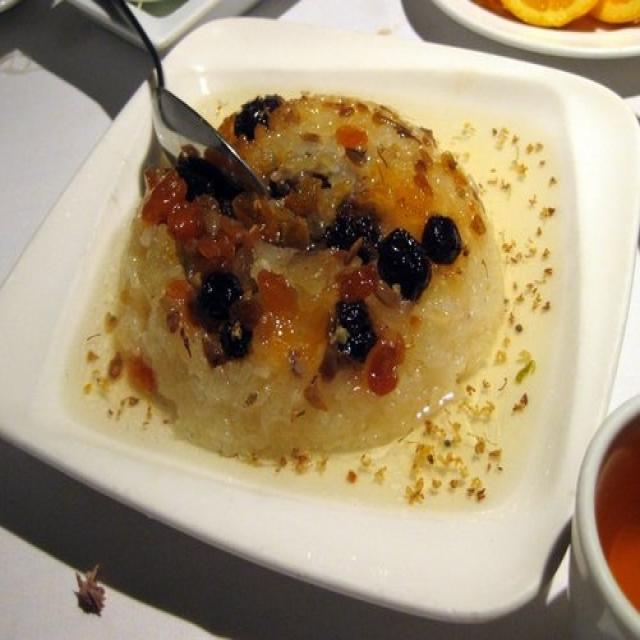米饭主食: (119, 58, 524, 472)
